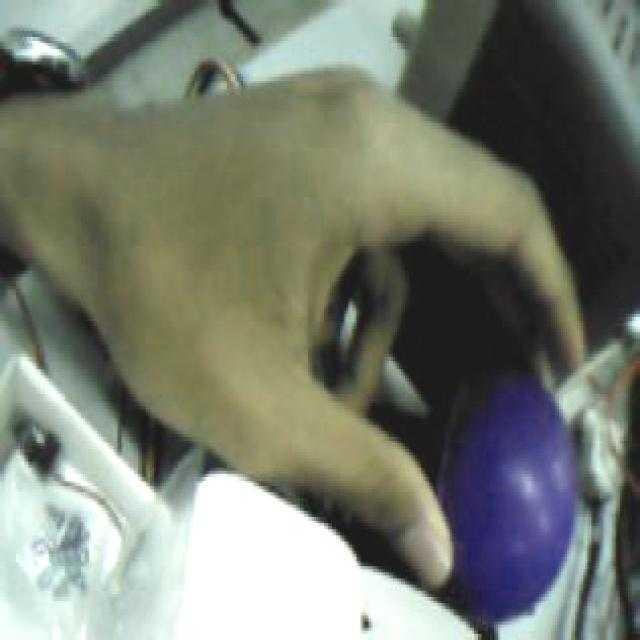BallPurple: (402, 368, 578, 622)
